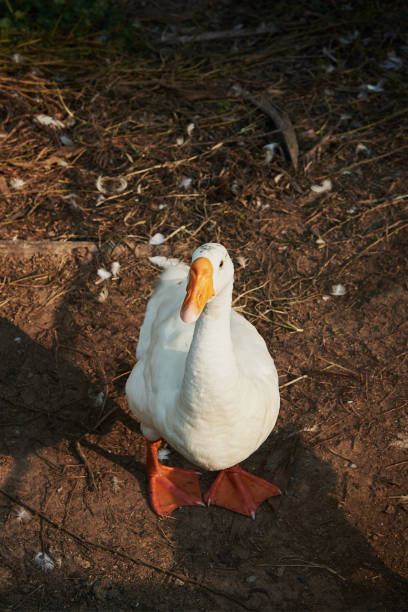goose: (125, 238, 282, 524)
